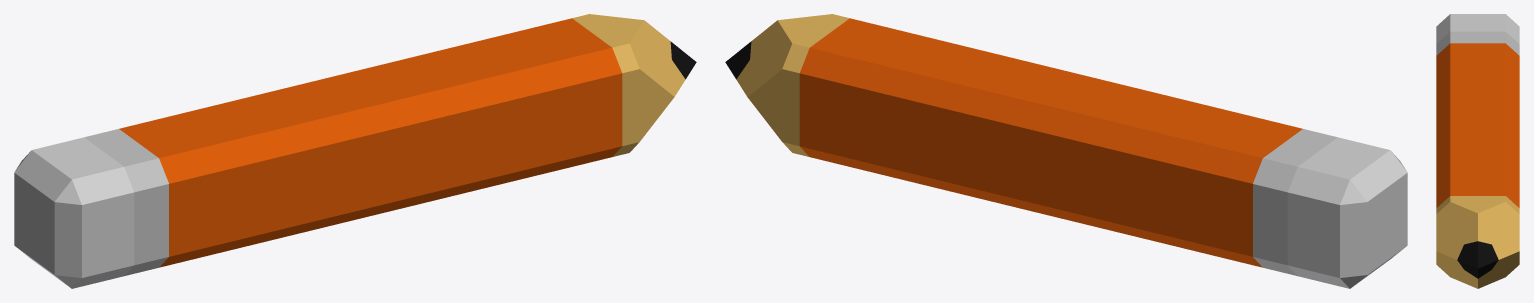
Rendered from pencil.fbx.
3 renders of one model, left to right at view 1: azimuth 30°, elevation 25°; view 2: azimuth 150°, elevation 25°; view 3: azimuth 270°, elevation 25°, orthographic. The views are drawn at different scales.
Visible parts, largest first — view 1: pencil.mc; view 2: pencil.mc; view 3: pencil.mc.
Boxes of the visible parts, x1,y1,x2,y2 form: pencil.mc: (14,14,696,288); pencil.mc: (725,14,1407,288); pencil.mc: (1436,14,1519,288).
Size of the model in its own units: 38 by 6 by 6.
